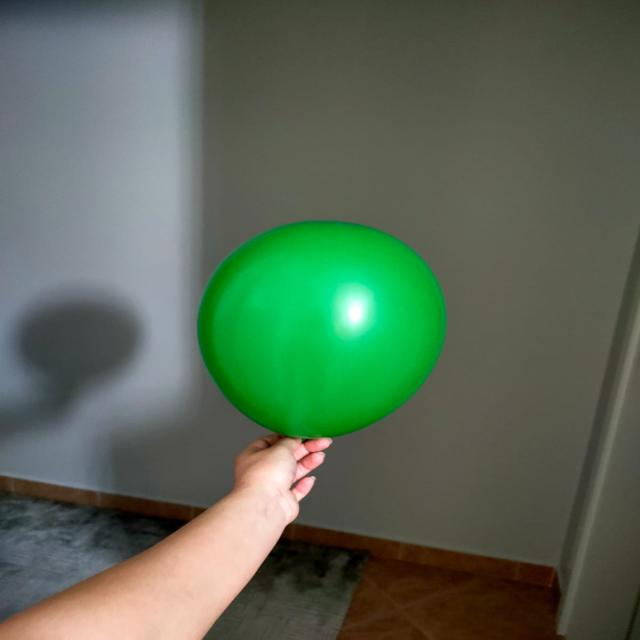green: (203, 221, 451, 445)
